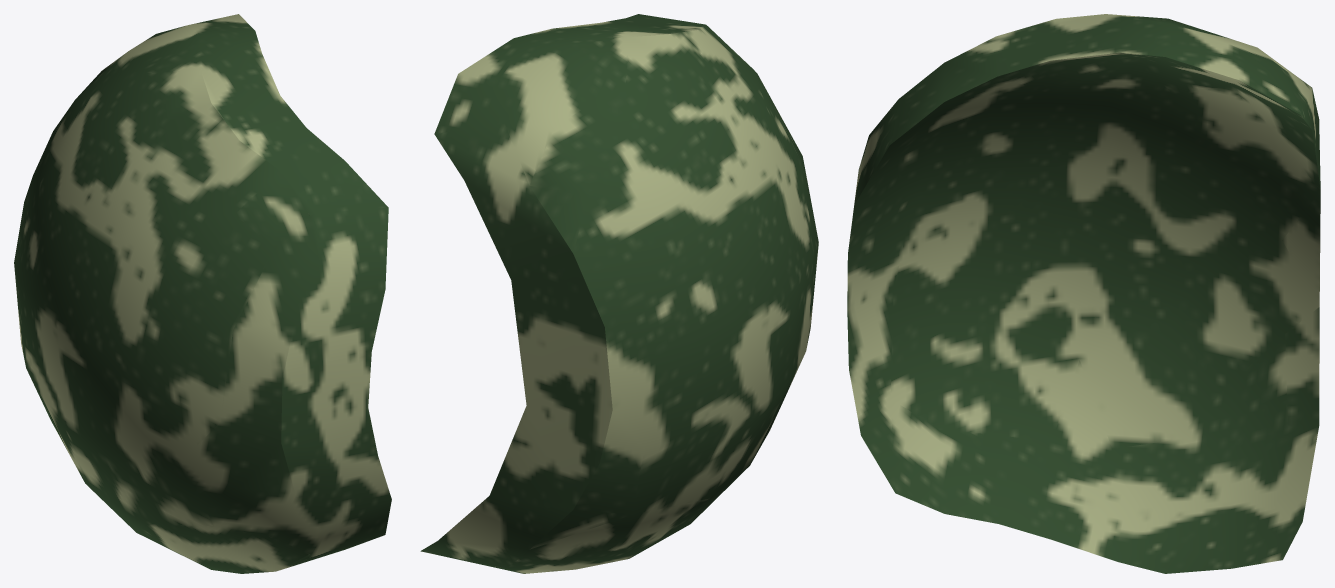
Rendered from link_body_09.obj.
The picture shows the model from 3 angles, left to right: view 1: azimuth 30°, elevation 25°; view 2: azimuth 150°, elevation 25°; view 3: azimuth 270°, elevation 25°; orthographic projection. The views are drawn at different scales.
Parts seen in each view (by area): view 1: link_body_09; view 2: link_body_09; view 3: link_body_09.
Part boxes in pixels (left/top/right/bottom): link_body_09: left=14, top=14, right=391, bottom=573; link_body_09: left=420, top=14, right=818, bottom=573; link_body_09: left=847, top=14, right=1320, bottom=573.
Size of the model in its own units: 9.82 by 18.35 by 14.85.
